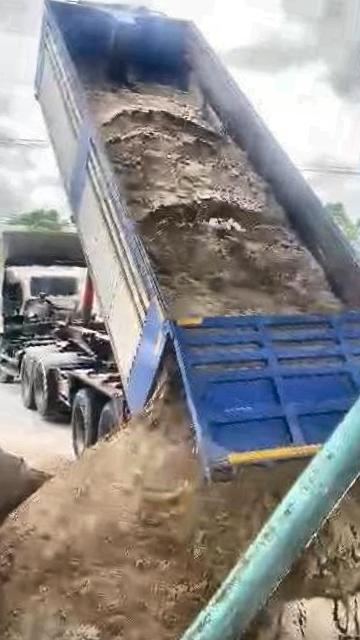sand: (0, 344, 300, 640), (91, 85, 342, 317), (214, 454, 360, 640), (0, 423, 69, 561)
